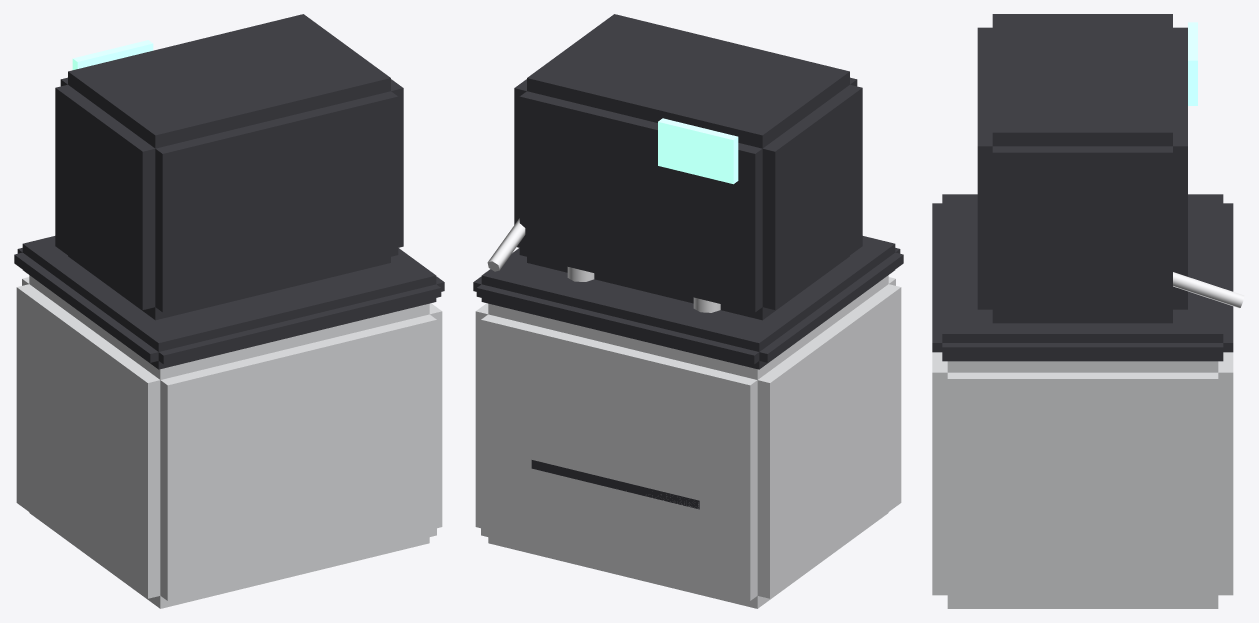
File: coffee_machine.glb
The picture shows the model from 3 angles, left to right: view 1: azimuth 30°, elevation 25°; view 2: azimuth 150°, elevation 25°; view 3: azimuth 270°, elevation 25°; orthographic projection. The views are drawn at different scales.
Parts seen in each view (by area): view 1: coffee_machine; view 2: coffee_machine; view 3: coffee_machine.
Boxes of the visible parts, box(x1,y1,x2,y2) form: coffee_machine: box(14, 14, 444, 608); coffee_machine: box(473, 14, 903, 608); coffee_machine: box(932, 14, 1244, 608).
Bounding box in the file's own units: 0.7 × 1.03 × 0.6226.
